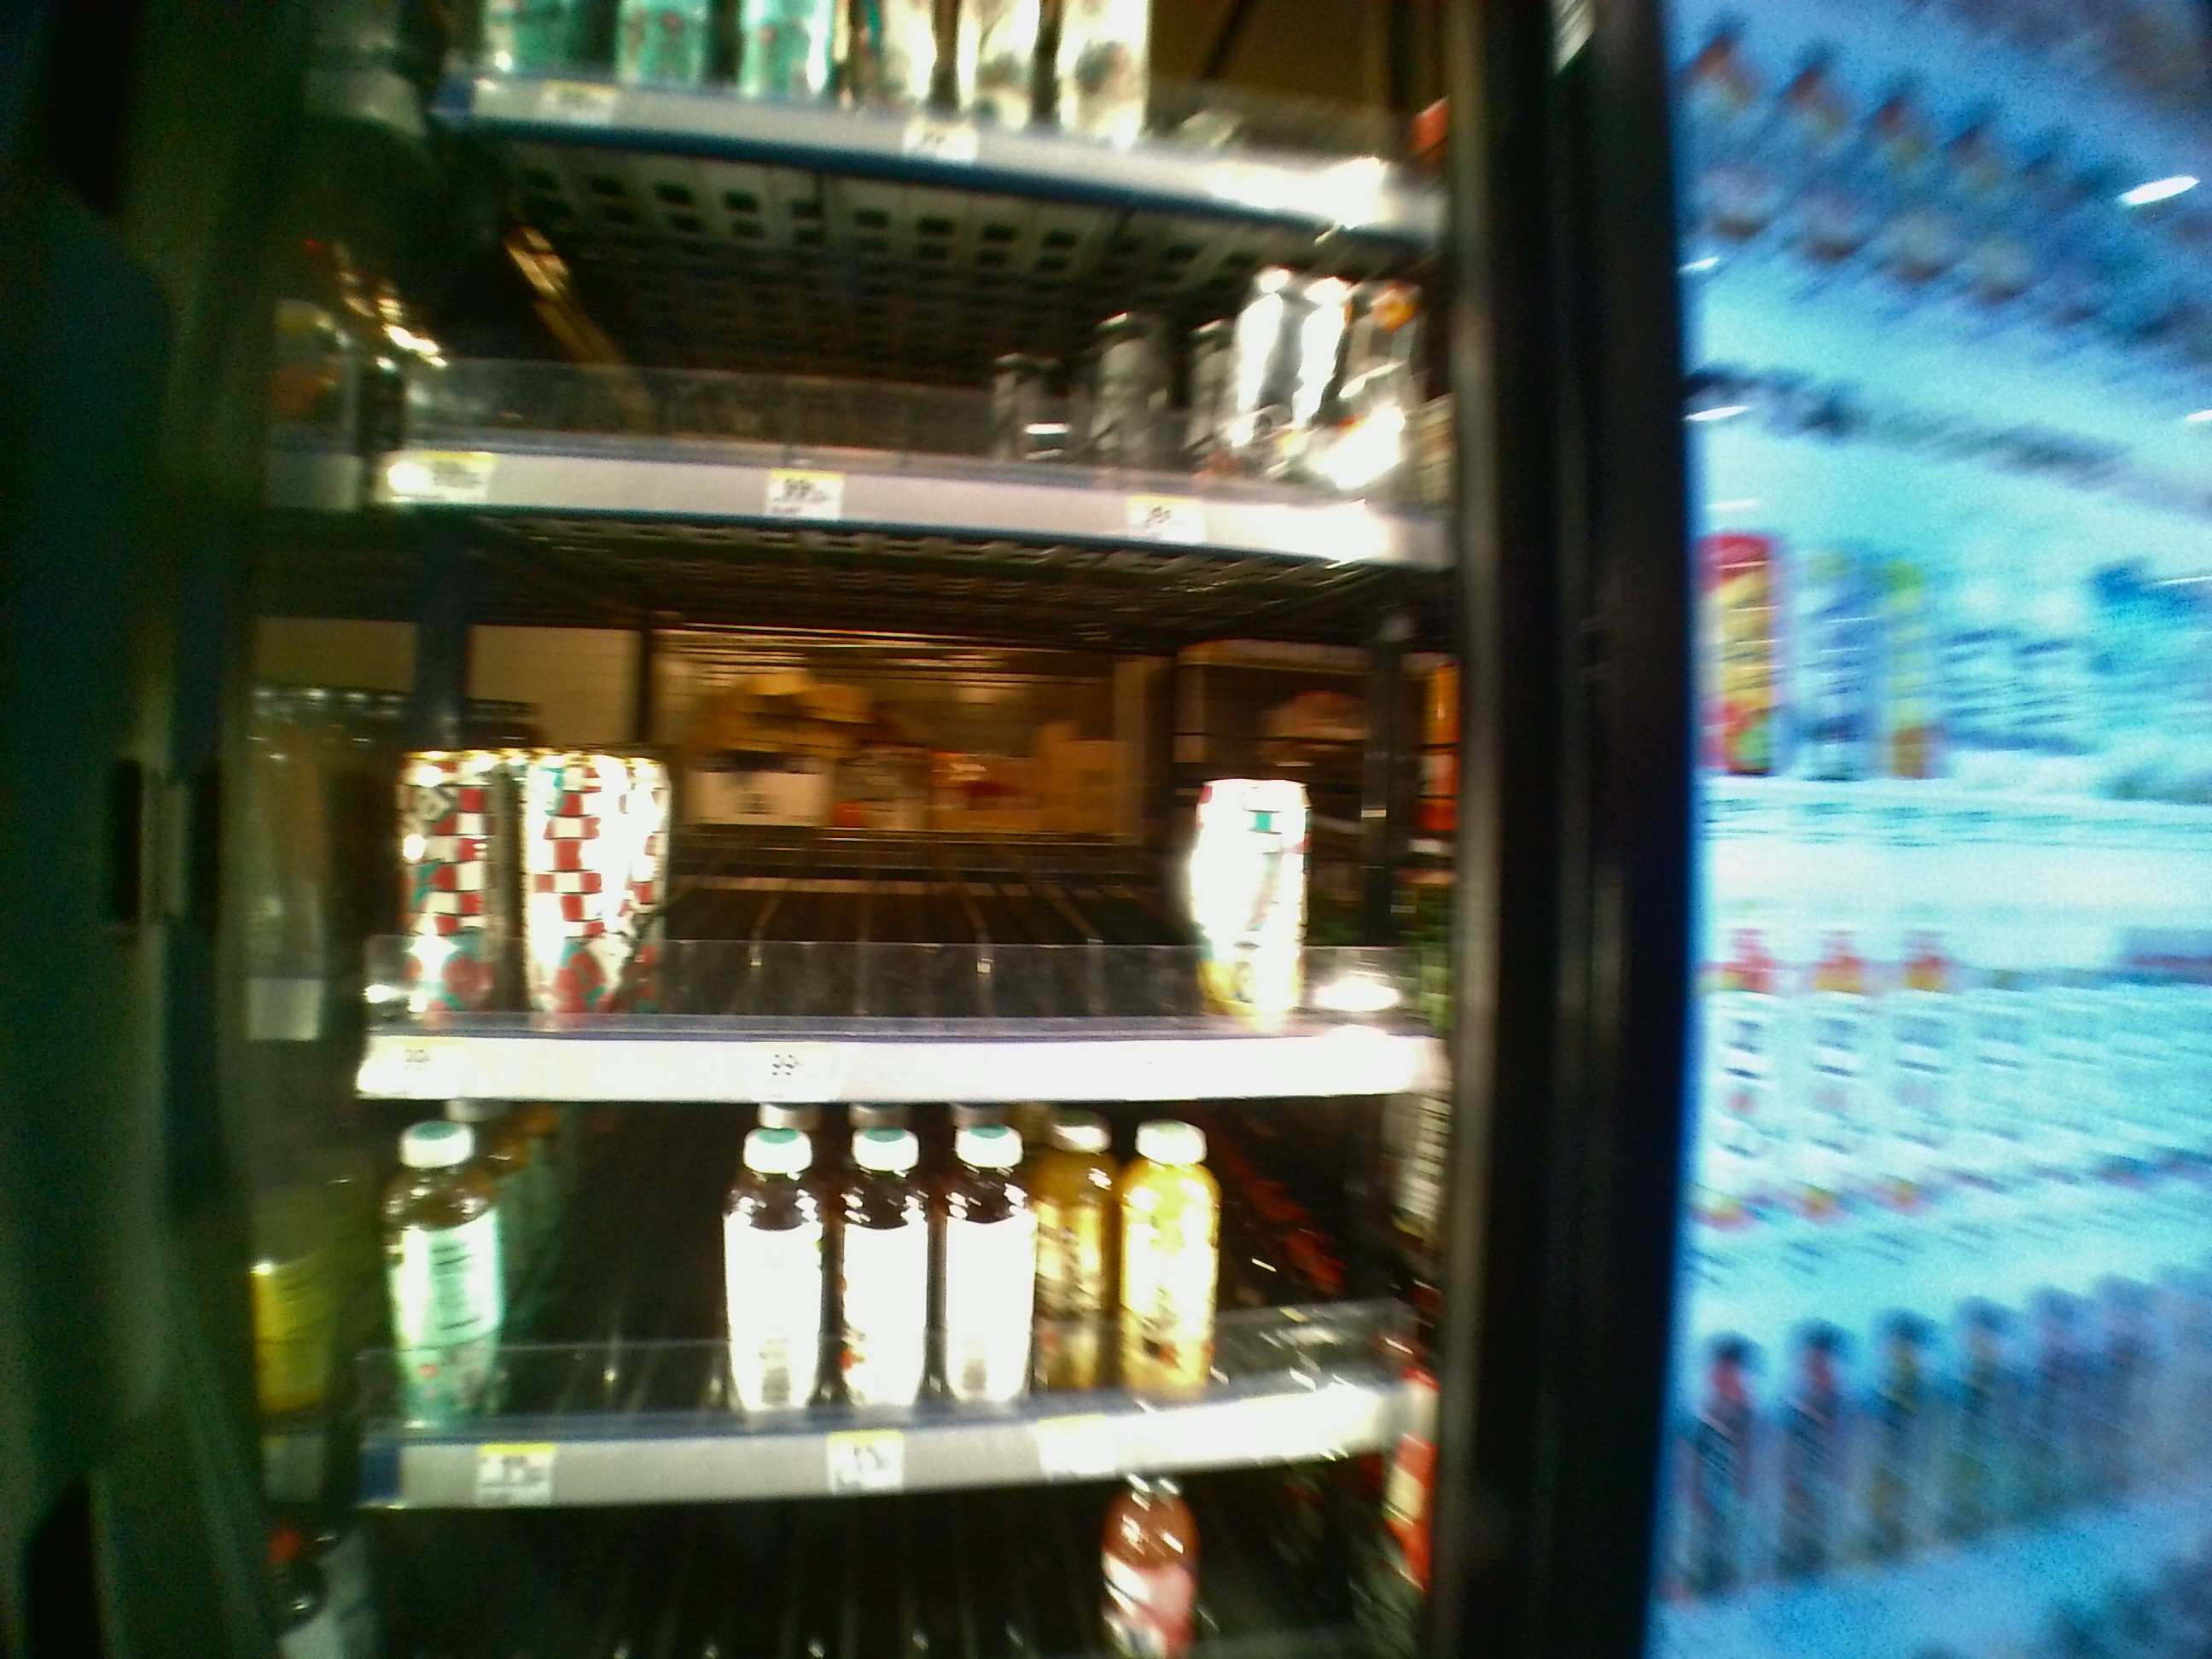shelf: (354, 516, 1451, 1094), (350, 1114, 1446, 1513)
